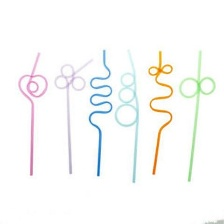drinking_straw: (176, 46, 220, 185), (14, 46, 53, 179), (84, 43, 117, 181)
